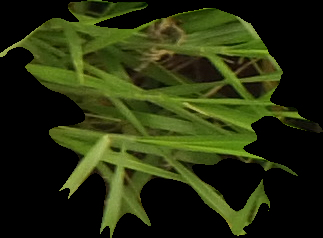grass: (1, 1, 322, 236)
